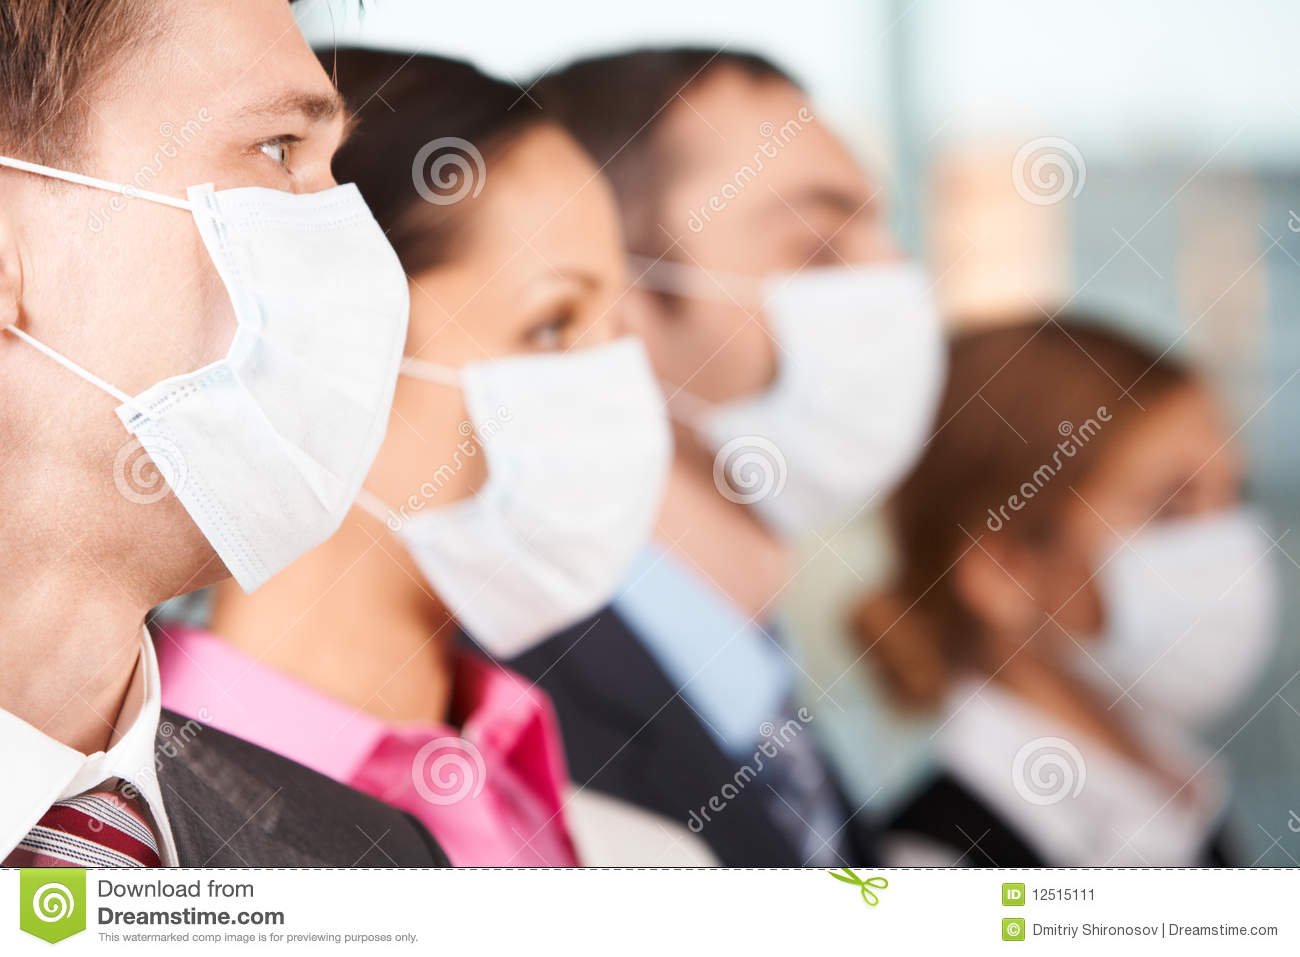mask: (118, 172, 411, 586)
